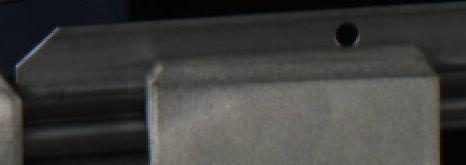cut: (14, 21, 141, 158)
holes: (335, 19, 362, 49)
